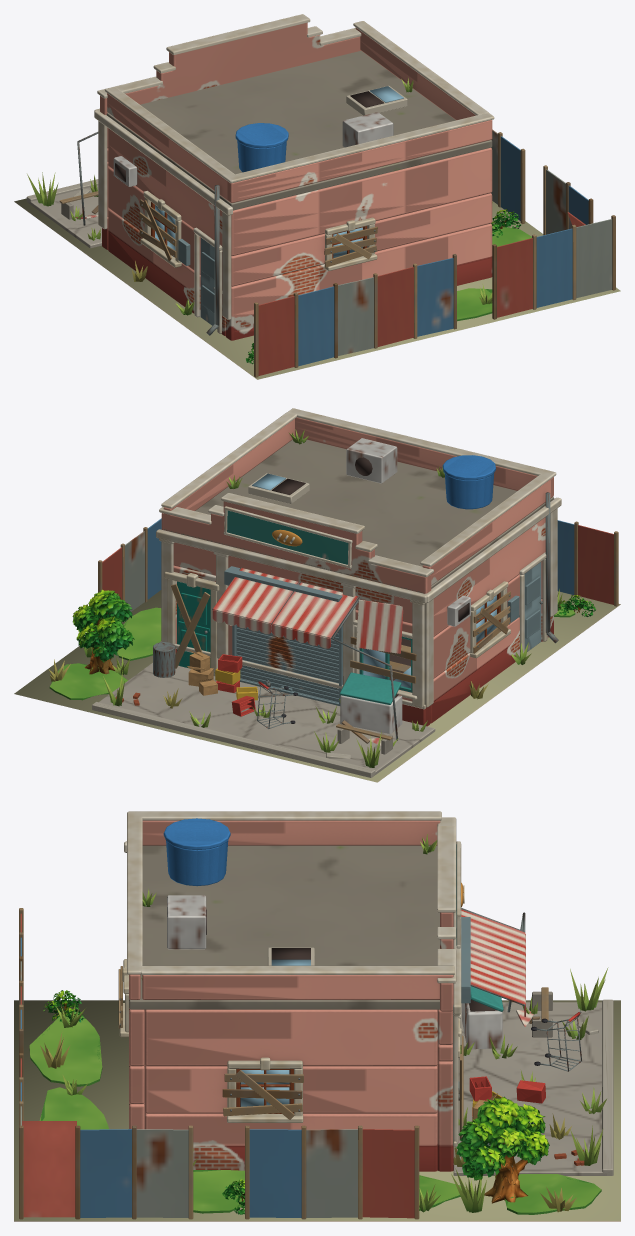
The model's file is Lot_Loja.fbx.
3 renders of one model, top to bottom at view 1: azimuth 30°, elevation 25°; view 2: azimuth 150°, elevation 25°; view 3: azimuth 270°, elevation 25°, orthographic. The views are drawn at different scales.
Visible parts, largest first — view 1: LOJA_building, LOJA_yard, LOJA_pad; view 2: LOJA_building, LOJA_yard, LOJA_front, LOJA_pad, LOJA_junk; view 3: LOJA_building, LOJA_yard, LOJA_pad, LOJA_front, LOJA_junk.
Part boxes in pixels (box(x1,y1,x2,y2)): LOJA_building: box(94, 14, 494, 340); LOJA_yard: box(26, 129, 615, 377); LOJA_pad: box(14, 198, 620, 379); LOJA_building: box(156, 408, 561, 726); LOJA_yard: box(48, 518, 618, 777); LOJA_front: box(212, 506, 403, 745); LOJA_pad: box(14, 590, 620, 782); LOJA_junk: box(115, 642, 402, 754); LOJA_building: box(118, 811, 463, 1171); LOJA_yard: box(19, 908, 613, 1219); LOJA_pad: box(14, 1000, 620, 1221); LOJA_front: box(456, 841, 533, 1100); LOJA_junk: box(462, 986, 584, 1165).
Size of the model in its own units: 10 by 4.79 by 11.6.
1 material, 1 textured.
